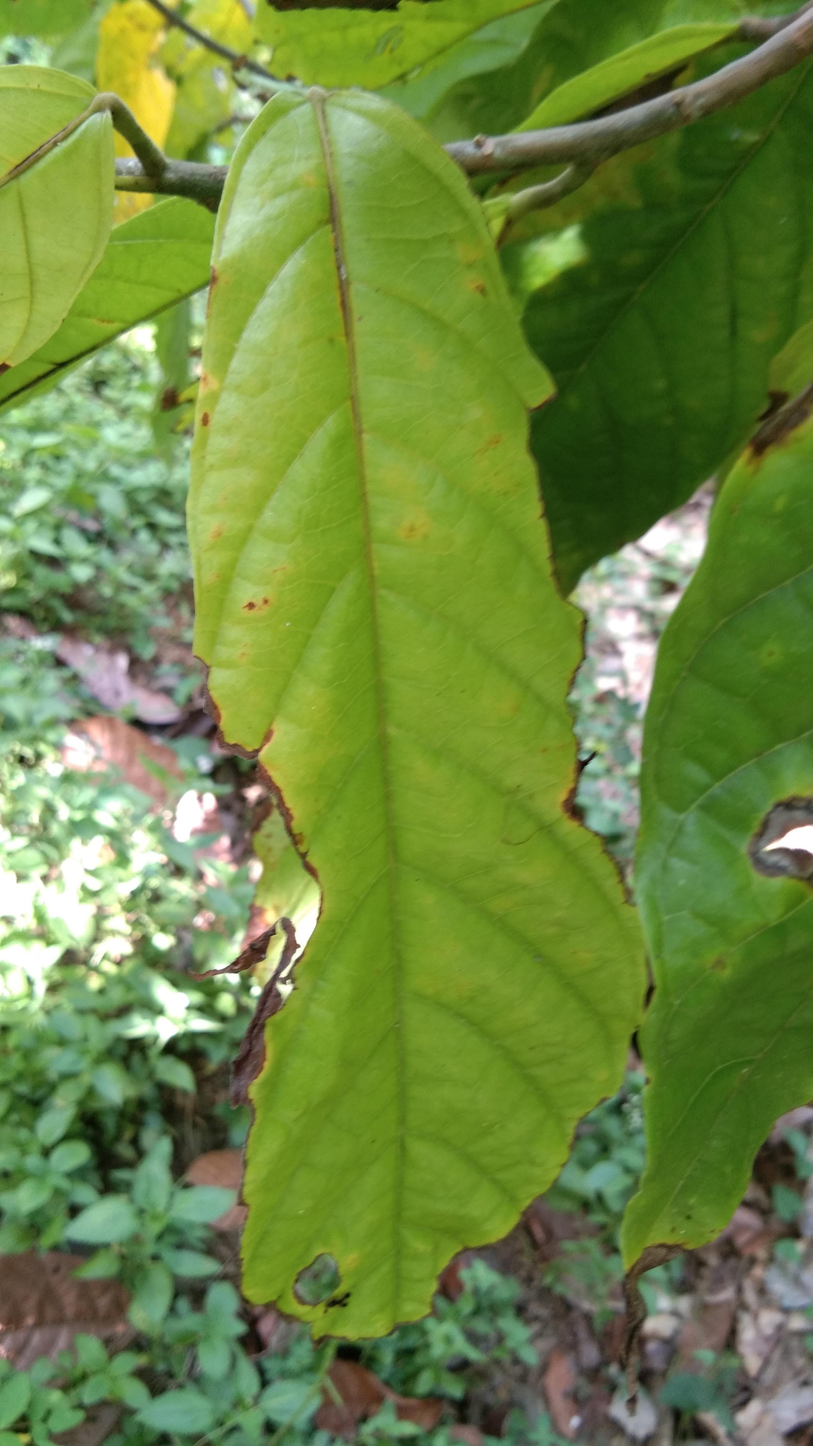deficiencia_potasio: (205, 83, 660, 1366)
